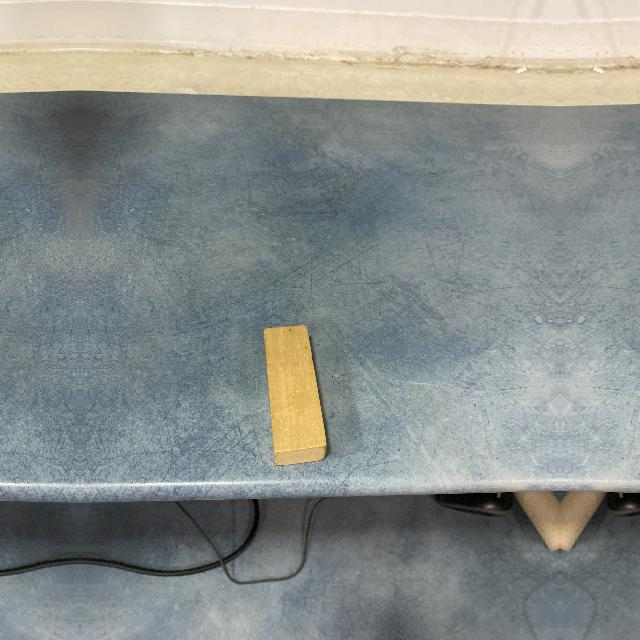jenga: (264, 325, 329, 468)
